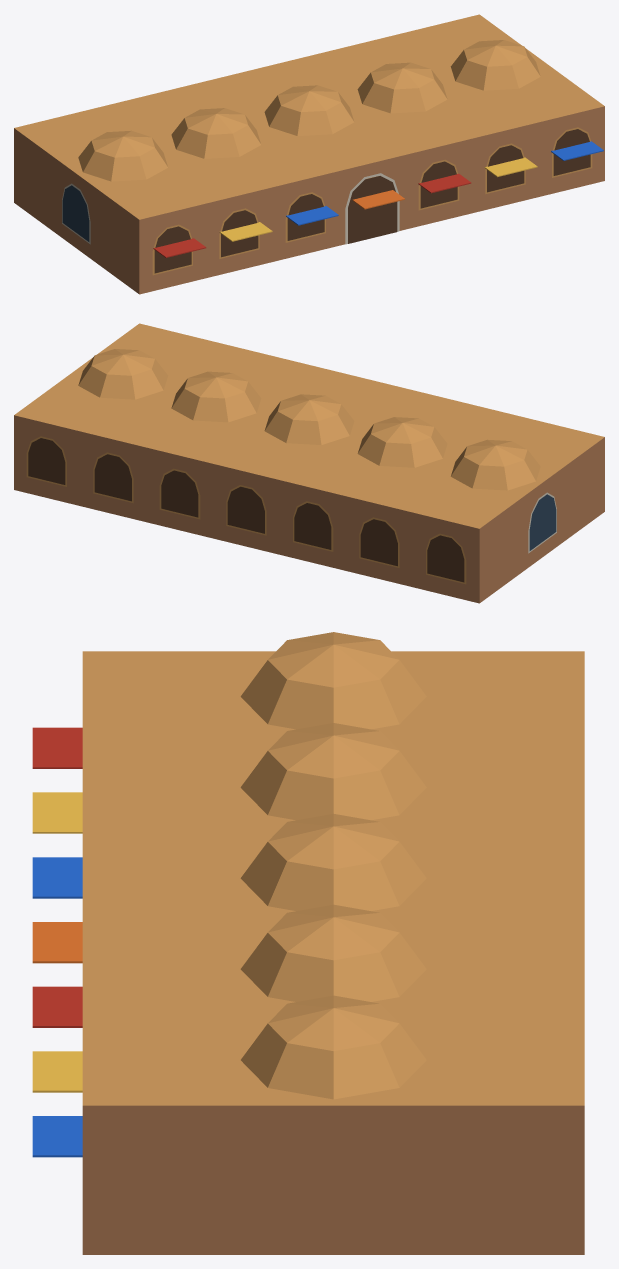
The model's file is souk_couvert.glb.
3 renders of one model, top to bottom at view 1: azimuth 30°, elevation 25°; view 2: azimuth 150°, elevation 25°; view 3: azimuth 270°, elevation 25°, orthographic. The views are drawn at different scales.
Visible parts, largest first — view 1: souk_couvert; view 2: souk_couvert; view 3: souk_couvert.
Part boxes in pixels (x1,y1,x2,y2): souk_couvert: (14, 14, 604, 294); souk_couvert: (14, 323, 604, 603); souk_couvert: (32, 632, 584, 1254).
Size of the model in its own units: 30.05 by 6.2 by 15.45.
Materials: 1 (1 with a texture image).
